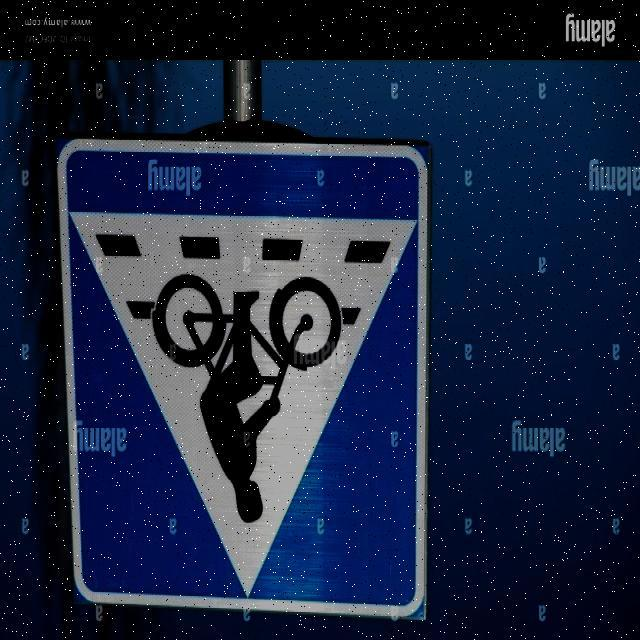Traffic sign: (45, 126, 438, 628)
